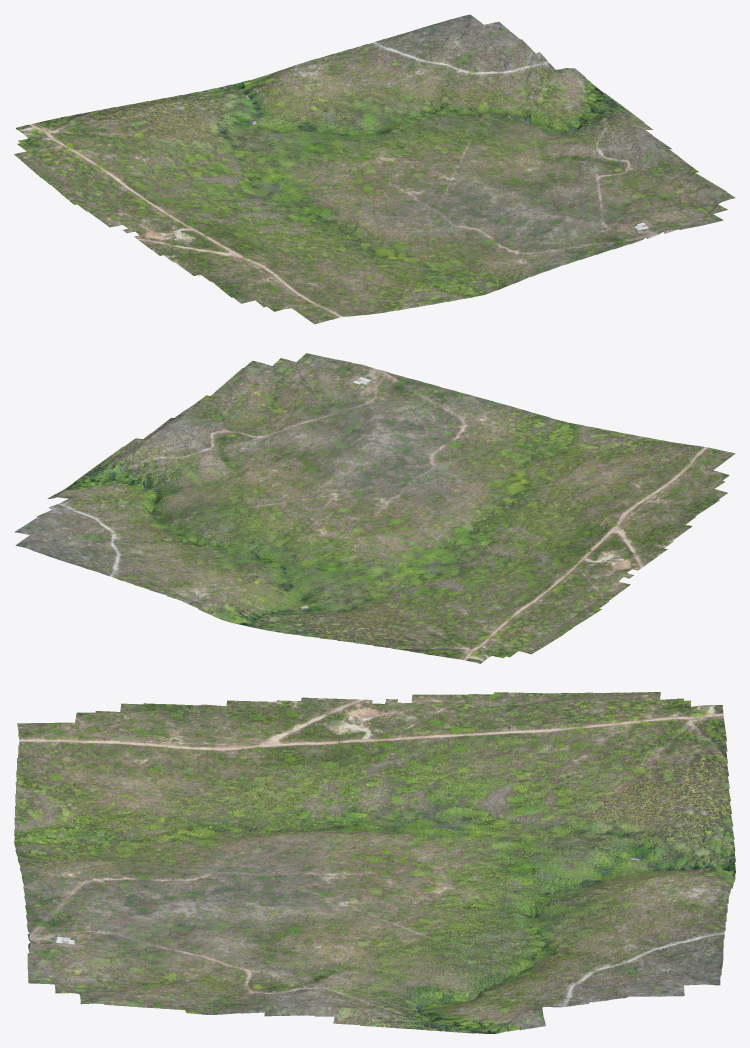
The model's file is pedra-furada-terreno.glb.
The picture shows the model from 3 angles, top to bottom: view 1: azimuth 30°, elevation 25°; view 2: azimuth 150°, elevation 25°; view 3: azimuth 270°, elevation 25°; orthographic projection. The views are drawn at different scales.
Visible parts, largest first — view 1: Node; view 2: Node; view 3: Node.
Boxes of the visible parts, box(x1,y1,x2,y2) form: Node: box(14, 14, 735, 324); Node: box(14, 353, 735, 663); Node: box(14, 692, 735, 1033).
Bounding box in the file's own units: 660 × 38.02 × 613.
Materials: 1 (1 with a texture image).
